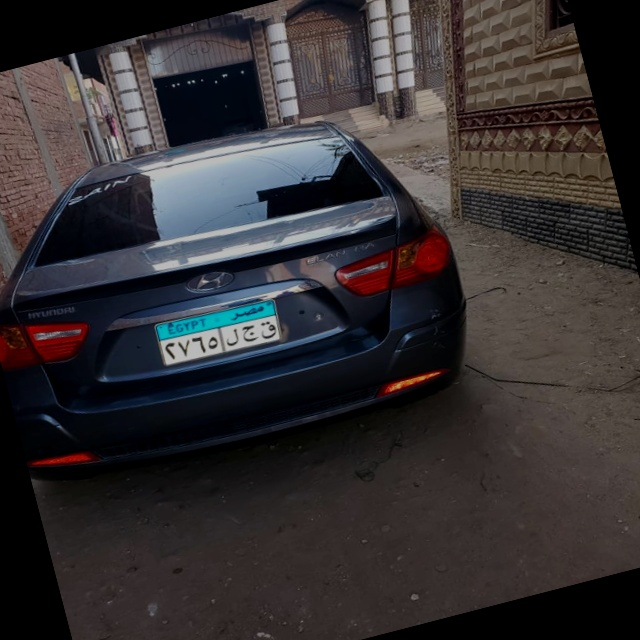License Plate: (152, 292, 288, 372)
